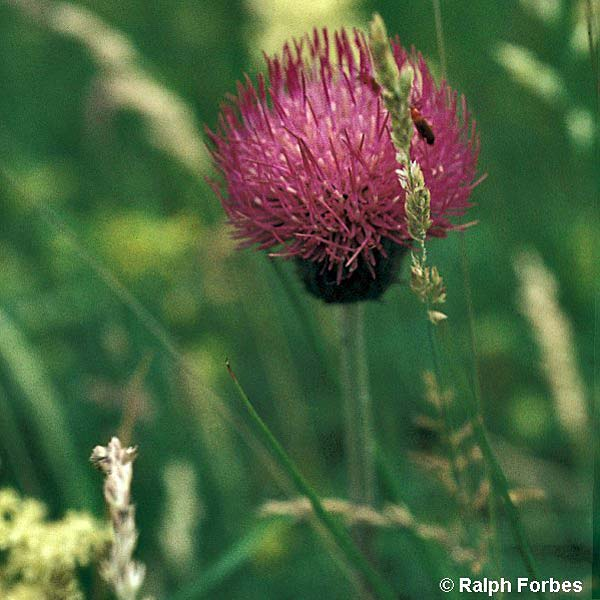thistle: (204, 23, 488, 307)
